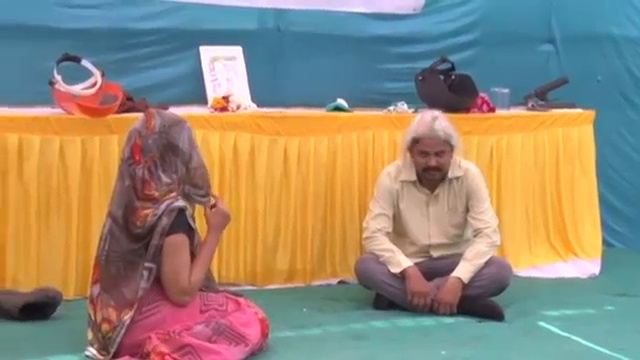helmet_off: (119, 109, 215, 203), (407, 113, 458, 182)
person: (86, 109, 270, 360), (351, 107, 516, 325)
